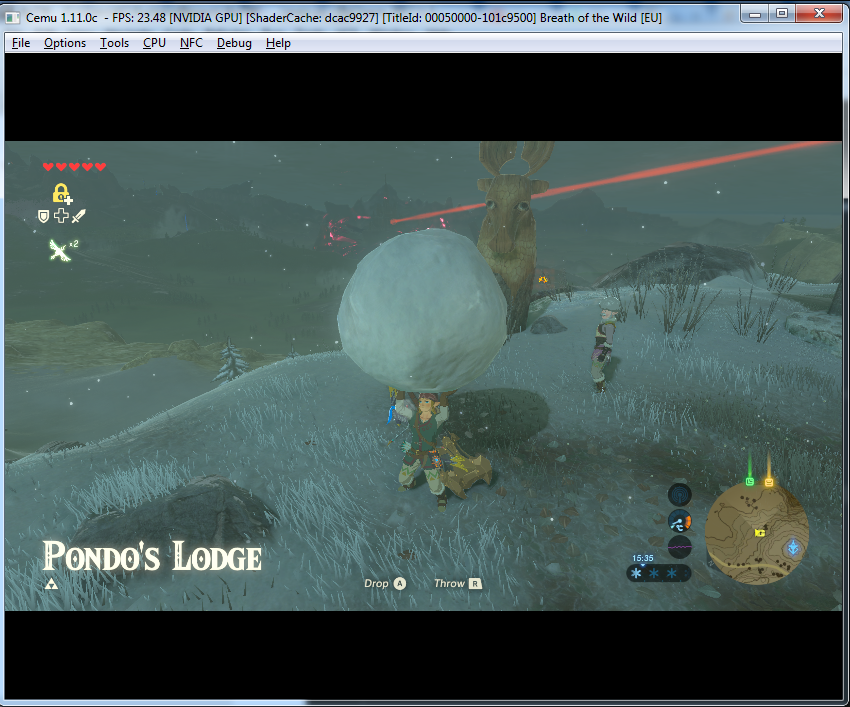dude: (586, 285, 621, 402)
link: (382, 373, 496, 506)
snowball: (324, 218, 520, 390)
totem: (469, 135, 562, 341)
